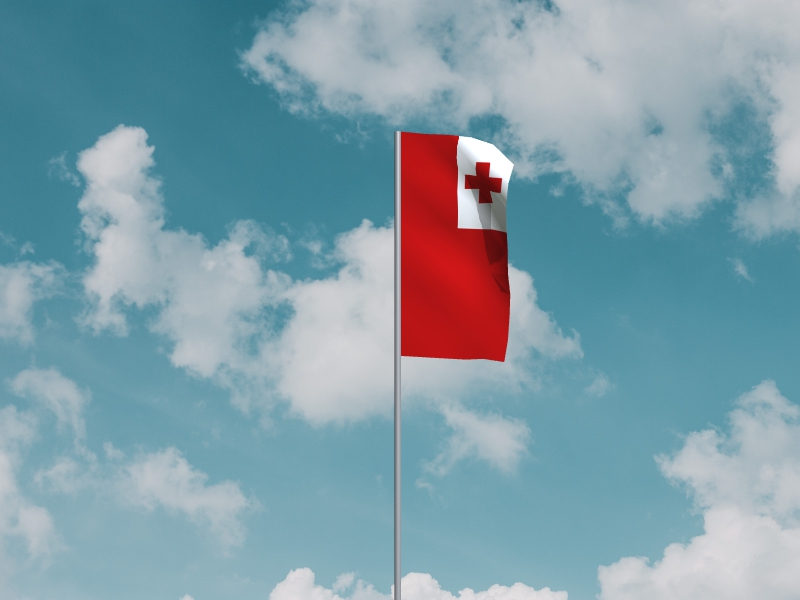to: (401, 133, 516, 364)
